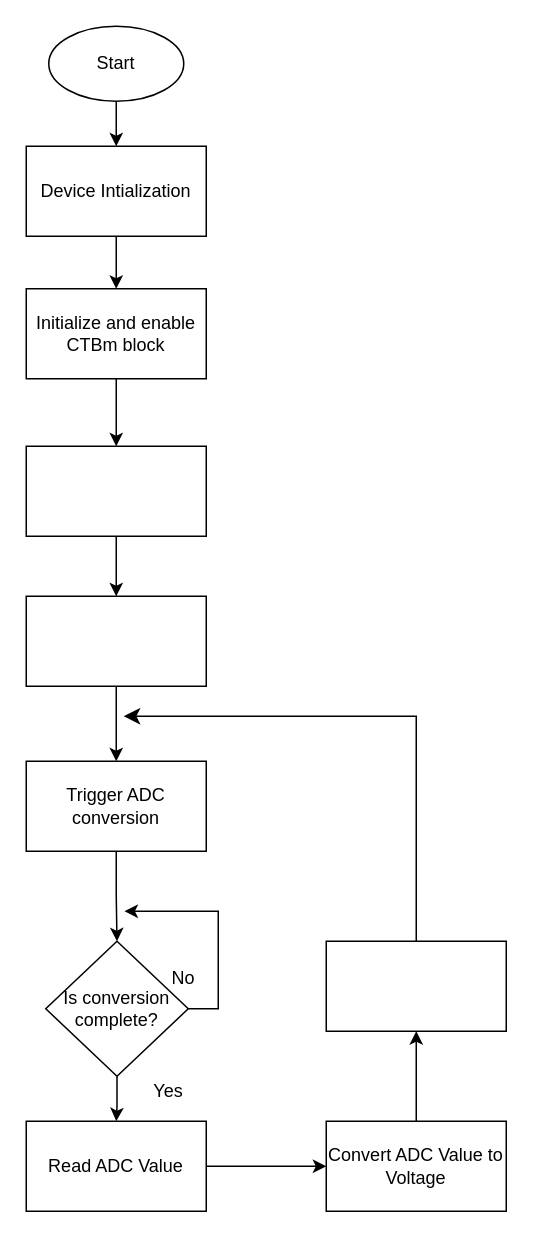
The diagram is 533 pixels wide and 1238 high, and some of its shapes have lost their labels. The centre of each missing label's shape, as x and y in pixels:
"Initialize and enable 12 bit ADC block" belongs at pixel 115 490.
"Initialize and enable SCB Uart block" belongs at pixel 115 640.
"Print the Value through UART" belongs at pixel 415 985.
